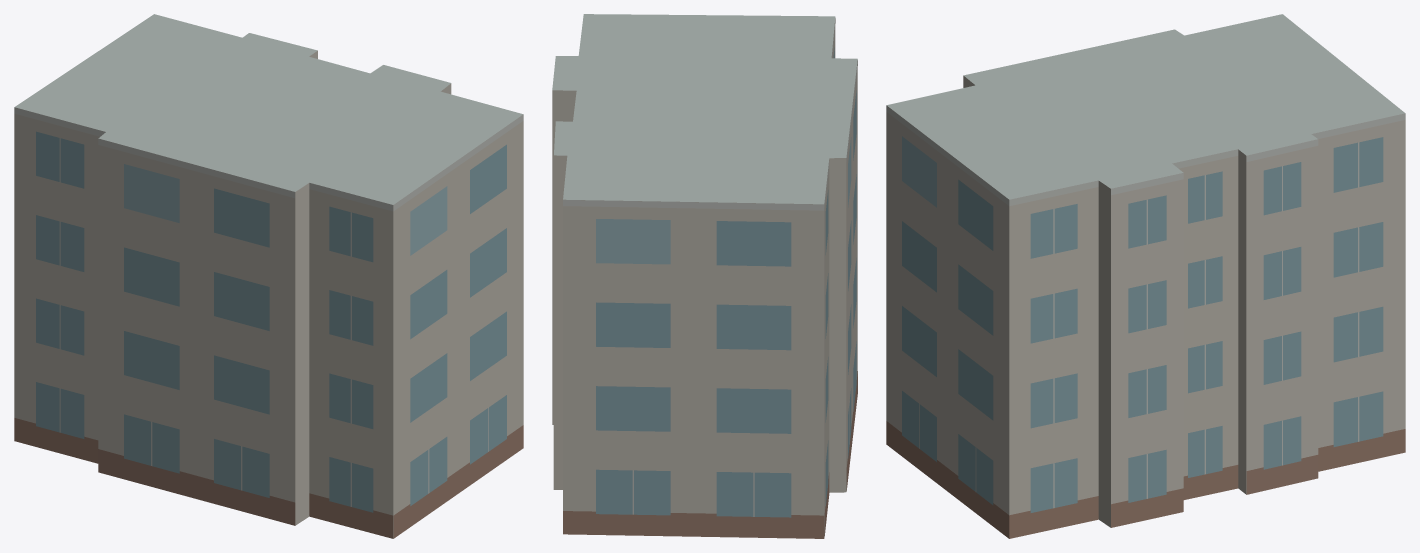
The model's file is survey-upis-32842055.glb.
The picture shows the model from 3 angles, left to right: view 1: azimuth 30°, elevation 25°; view 2: azimuth 150°, elevation 25°; view 3: azimuth 270°, elevation 25°; orthographic projection.
Visible parts, largest first — view 1: survey-upis-32842055.tmp; view 2: survey-upis-32842055.tmp; view 3: survey-upis-32842055.tmp.
Boxes of the visible parts, x1,y1,x2,y2 form: survey-upis-32842055.tmp: (14,14,523,538); survey-upis-32842055.tmp: (552,14,857,538); survey-upis-32842055.tmp: (886,14,1405,538).
Bounding box in the file's own units: 14.93 × 12.7 × 17.63.
